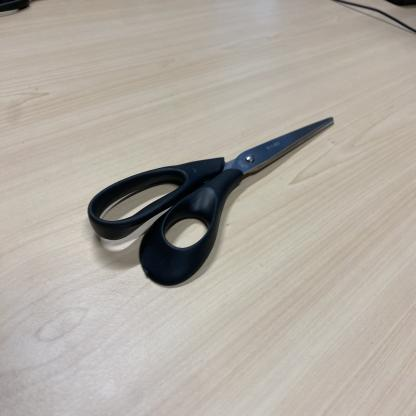scissors: (87, 117, 334, 287)
